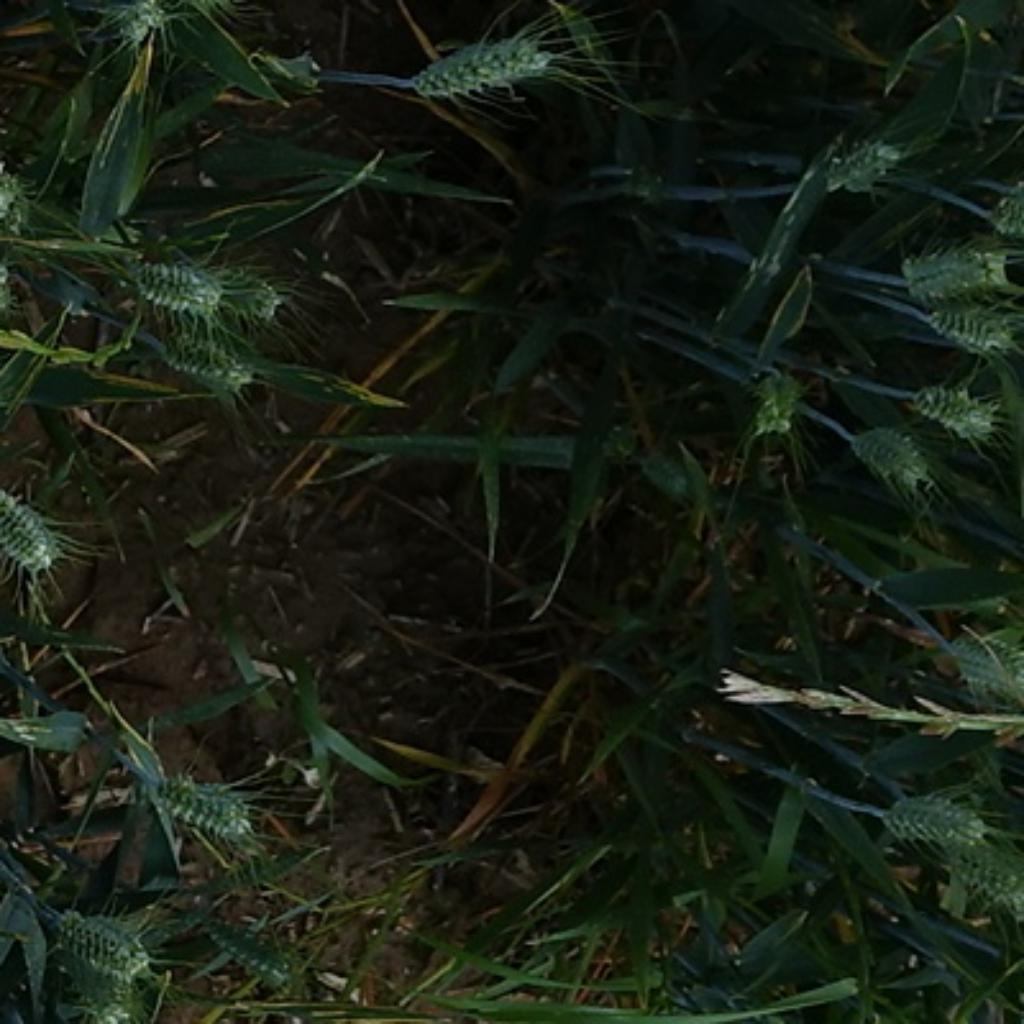0-0: (401, 20, 558, 102), (52, 891, 170, 988), (194, 896, 314, 988), (138, 765, 266, 849), (908, 371, 1010, 464), (875, 780, 995, 857), (898, 230, 1006, 314), (811, 120, 911, 197), (0, 481, 72, 584), (156, 325, 258, 396), (58, 957, 166, 1024), (844, 414, 934, 491), (939, 834, 1024, 911), (951, 611, 1023, 698), (130, 247, 209, 325), (921, 296, 1013, 355), (204, 266, 286, 330), (742, 363, 808, 437), (975, 175, 1024, 245), (99, 0, 174, 40), (0, 158, 38, 232)
